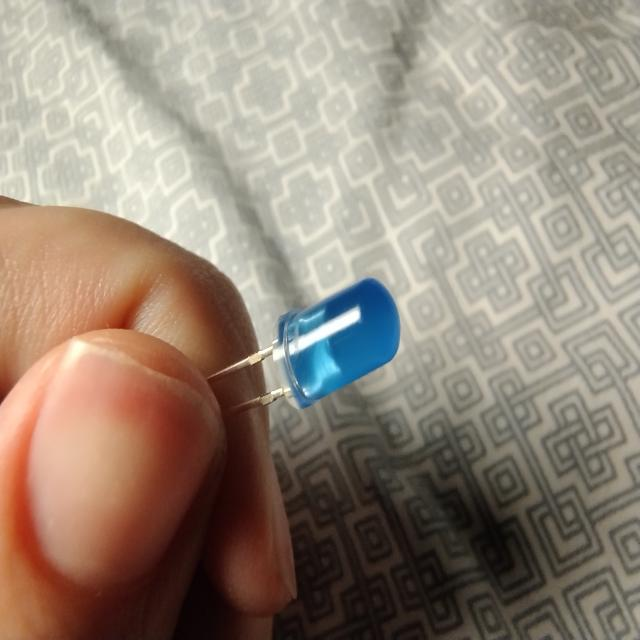blue_led: (212, 270, 410, 429)
